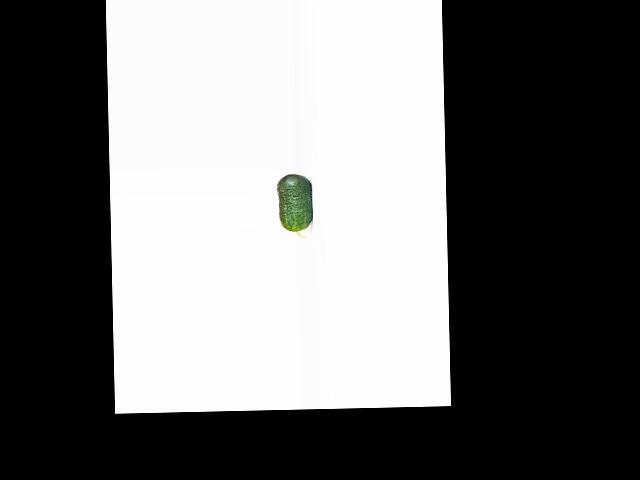cucumber: (276, 174, 313, 238)
